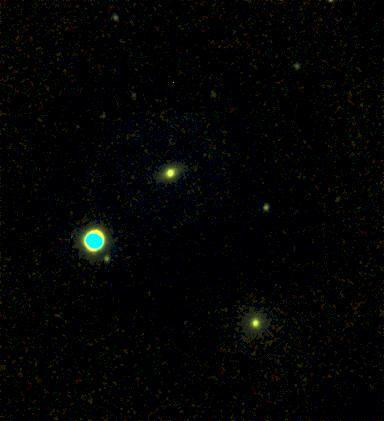star: (317, 0, 347, 16)
